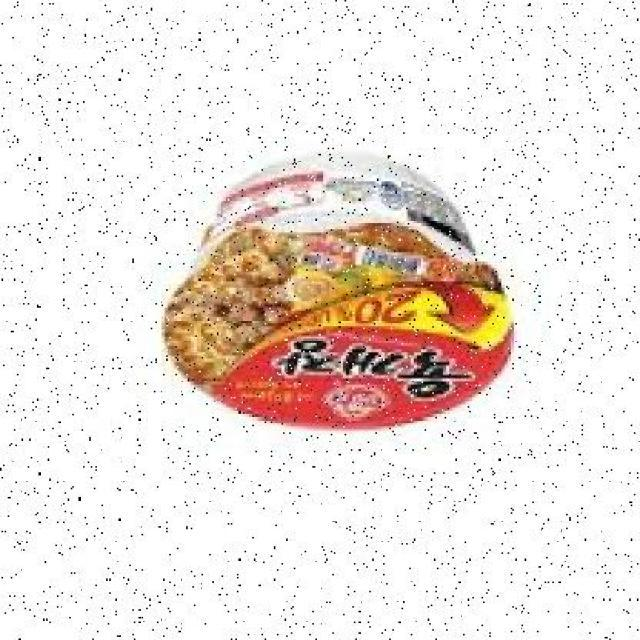Miscellaneous: (152, 144, 516, 432)
